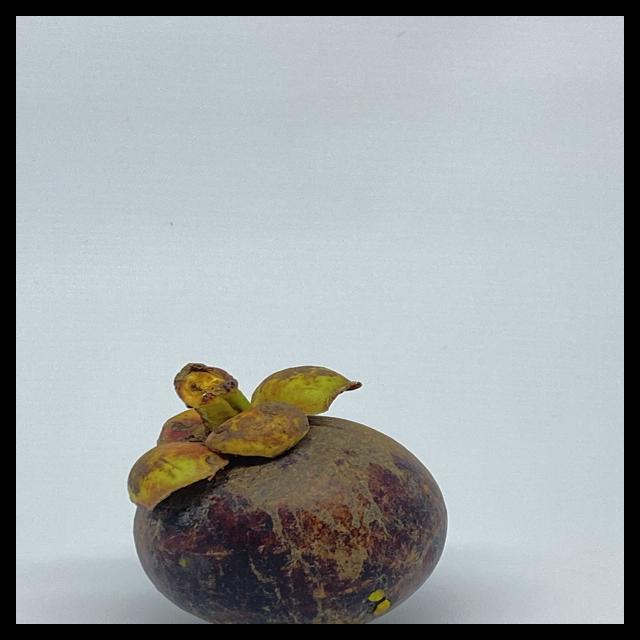mangosteen: (80, 336, 462, 624)
